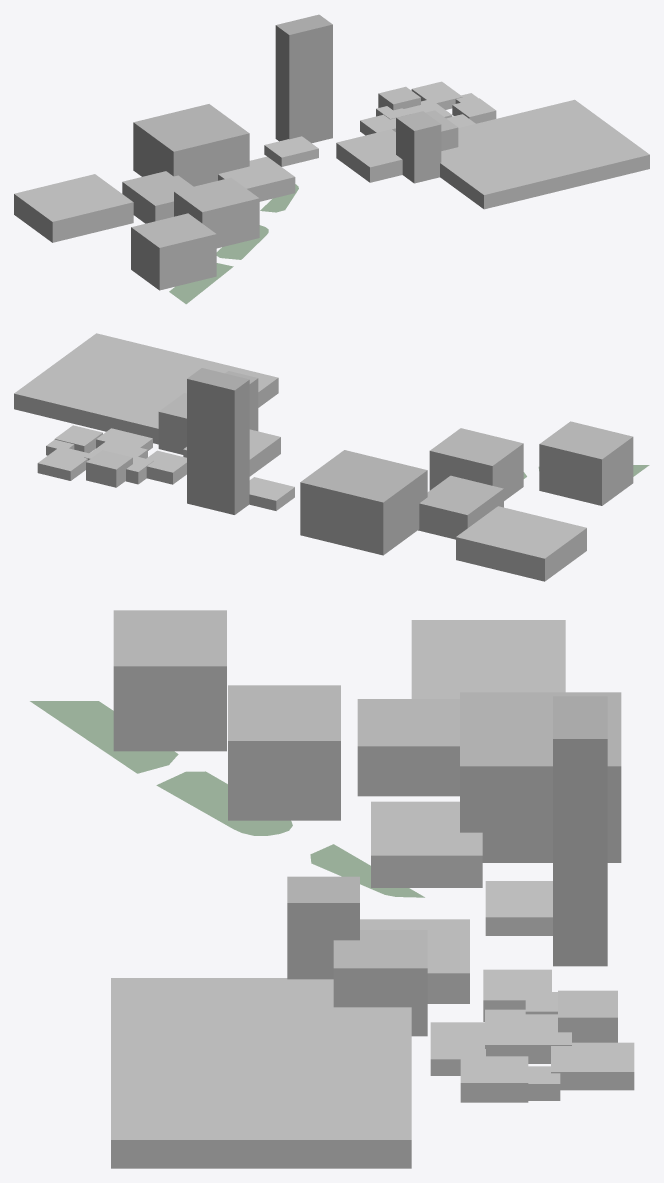
Rendered from 136_89_mid.glb.
3 renders of one model, top to bottom at view 1: azimuth 30°, elevation 25°; view 2: azimuth 150°, elevation 25°; view 3: azimuth 270°, elevation 25°, orthographic. The views are drawn at different scales.
Size of the model in its own units: 574 by 122 by 288.
